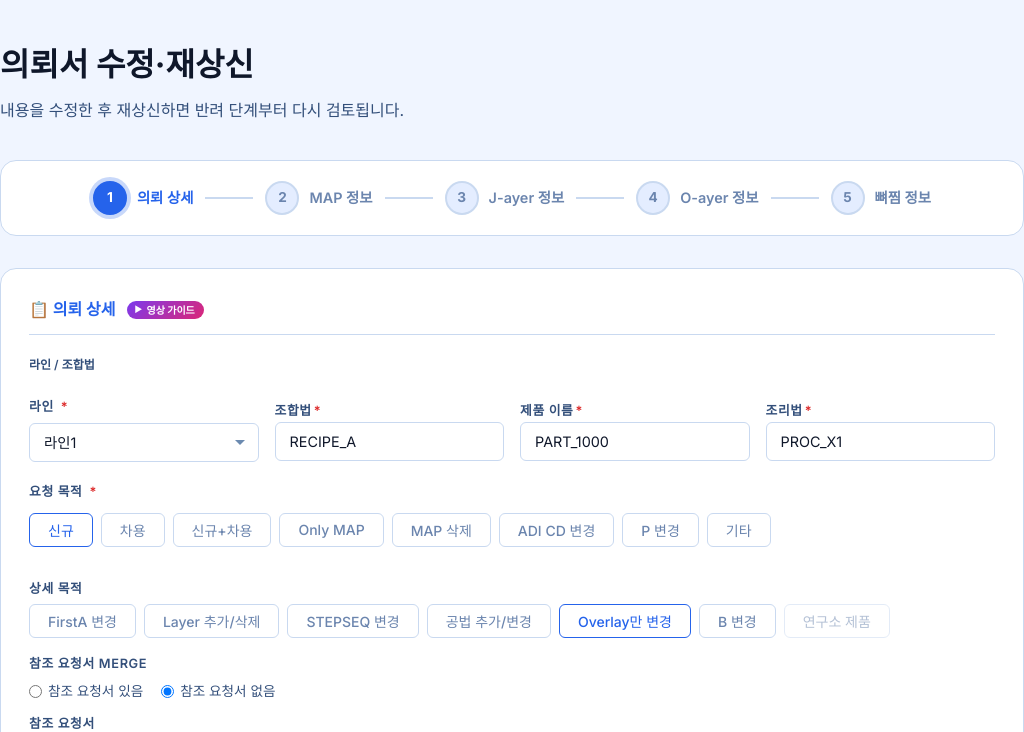
Test: 'Overlay만 변경' — 참조 요청서 필수 › '없음' 확정 후 '있음' 라디오는 열려 있고, 확인 모달을 거쳐 '있음'으로 바뀐다
Click the radio button labelled "참조 요청서 있음": point(36, 691) top-left (29, 685), bottom-right (42, 698)
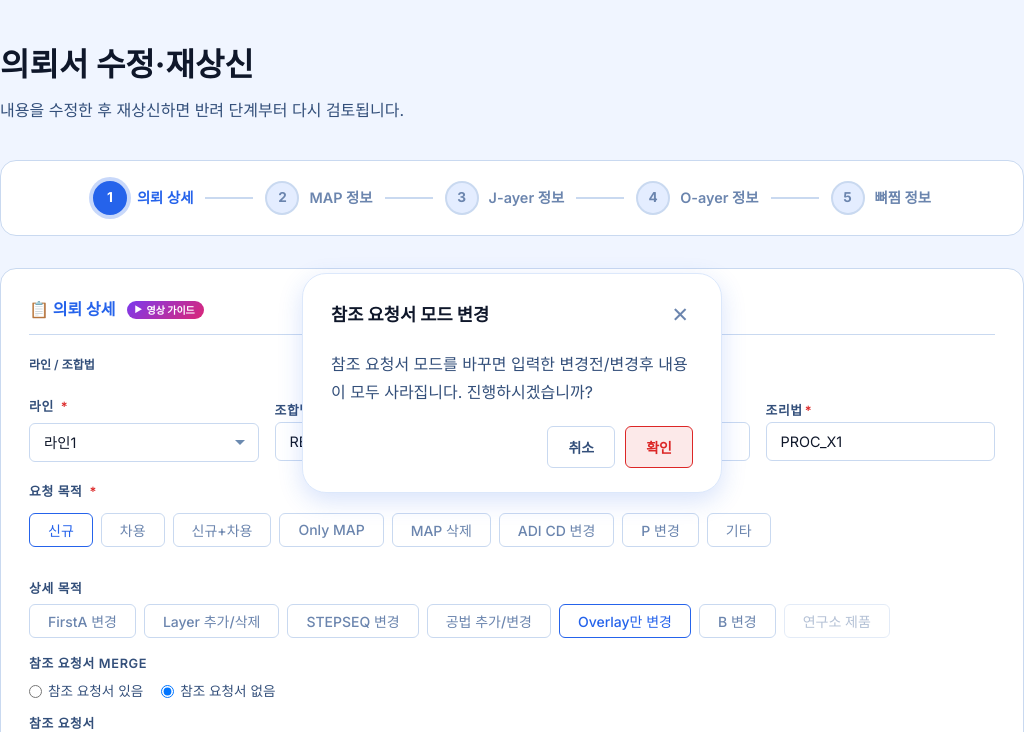
Result: the text "참조 요청서 모드를 바꾸면 입력한 변경전/변경후 내용이 모두 사라집니다. 진행하시겠습니까?" is shown at top-left (331, 351), bottom-right (693, 406)
Click the button "확인": point(659, 447) top-left (625, 426), bottom-right (693, 468)
(page scrolled)
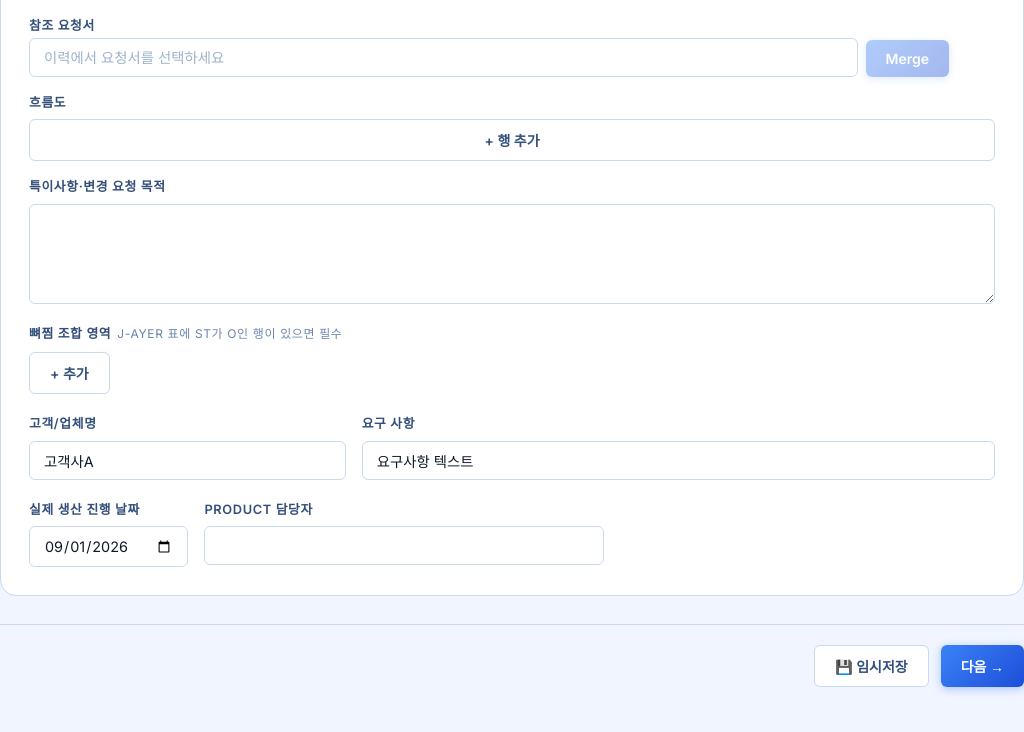
Click the button "다음 →": point(982, 666) top-left (941, 645), bottom-right (1023, 687)
(page scrolled)
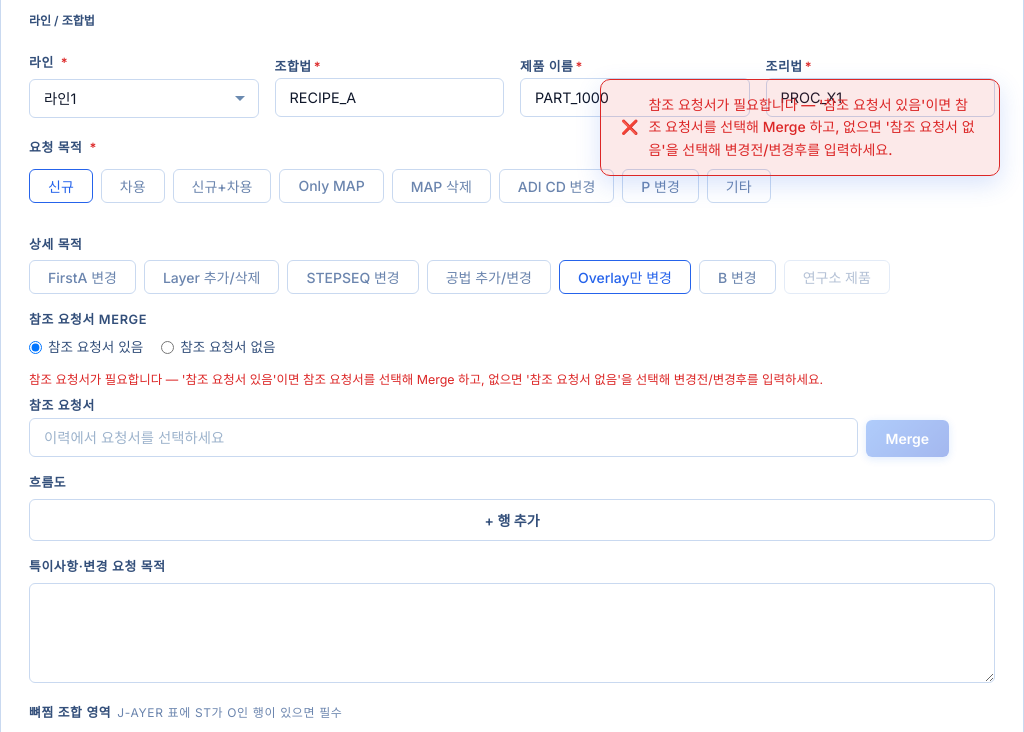
Result: the element with class "toast-error" shows "참조 요청서가 필요합니다 — '참조 요청서 있음'이면 참조 요청서를 선택해 Merge 하고, 없으면 '참조 요청서 없음'을 선택해 변경전/변경후를 입력하세요." at top-left (648, 96), bottom-right (975, 158)
